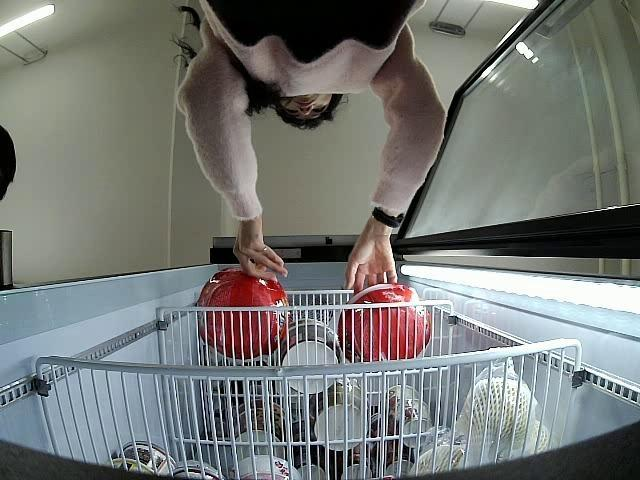10_wangTtukkeong: (198, 270, 289, 358), (338, 284, 430, 362)
